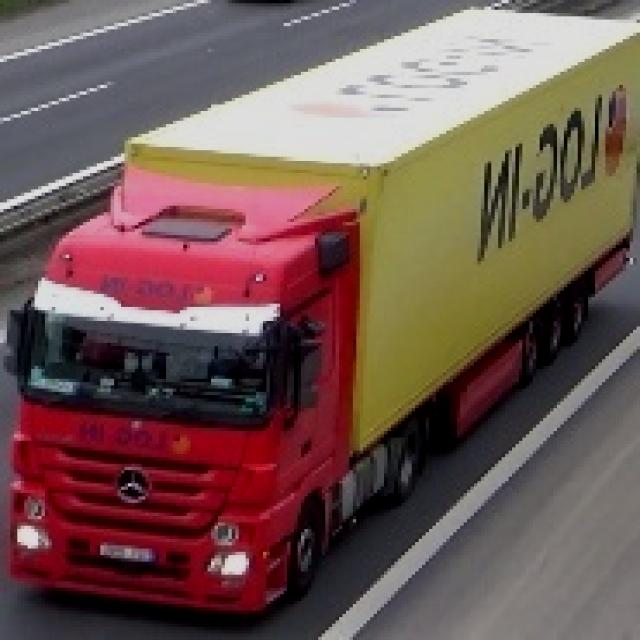TRUCK: (5, 126, 468, 612)
